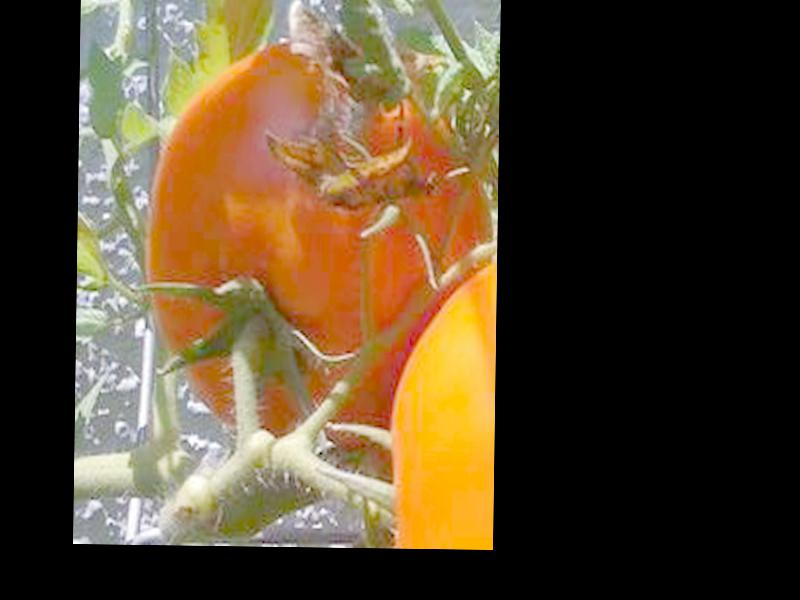Tomato: (141, 36, 488, 443)
